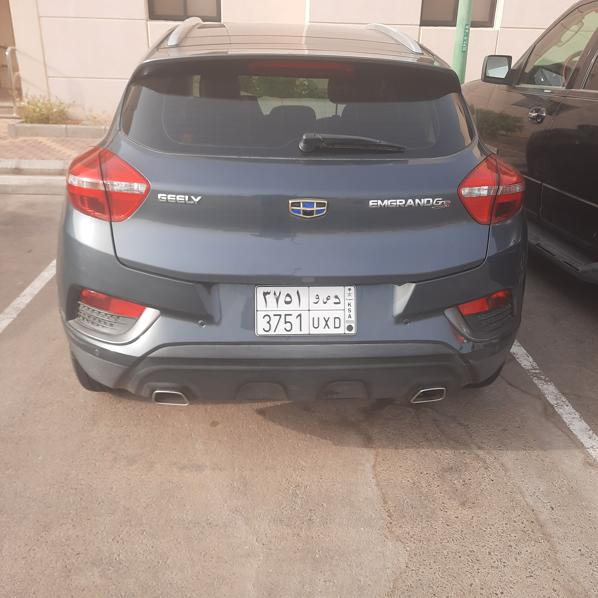numberplate: (257, 287, 356, 334)
